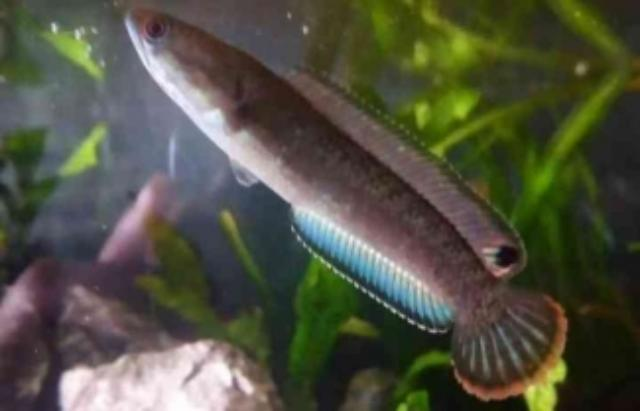Mulut: (112, 7, 170, 80)
Sirip Anal: (284, 208, 454, 340)
Sirip Ekor: (449, 284, 571, 404)
Sirip Punggung: (286, 56, 530, 284)
